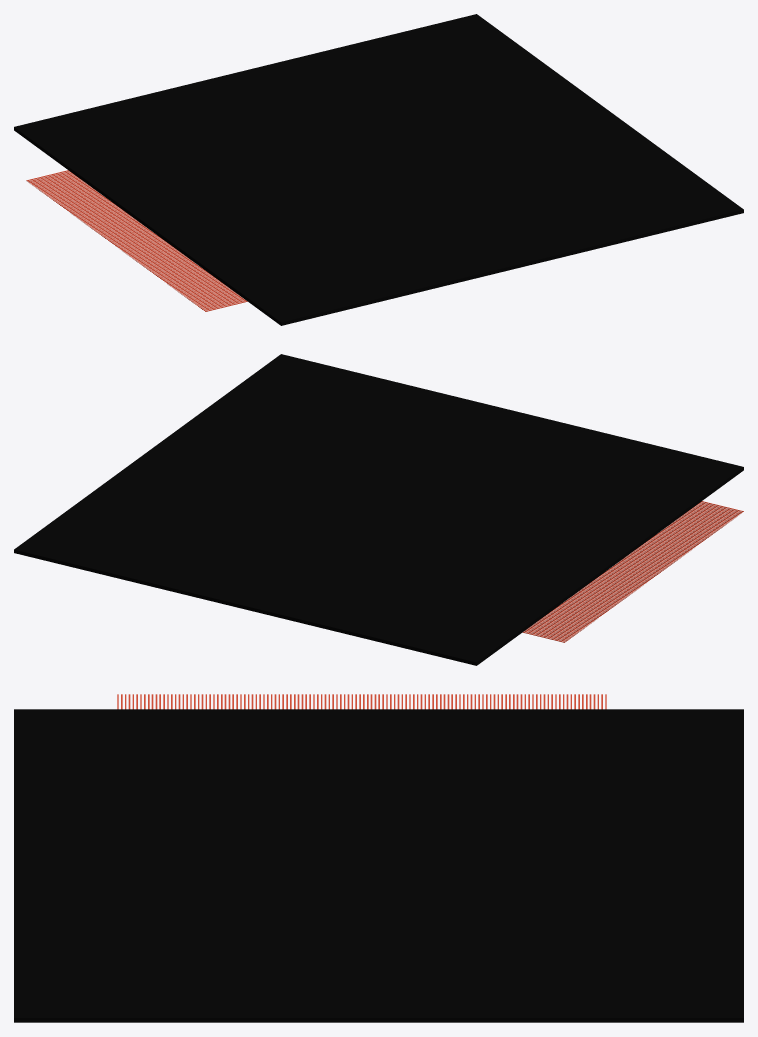
File: AMPHI_roof.fbx
The picture shows the model from 3 angles, top to bottom: view 1: azimuth 30°, elevation 25°; view 2: azimuth 150°, elevation 25°; view 3: azimuth 270°, elevation 25°; orthographic projection. The views are drawn at different scales.
Visible parts, largest first — view 1: Plane.003, Cube.001; view 2: Plane.003, Cube.001; view 3: Plane.003, Cube.001.
Boxes of the visible parts, left/top/right/bottom form: Plane.003: left=14, top=14, right=743, bottom=325; Cube.001: left=26, top=170, right=247, bottom=311; Plane.003: left=14, top=354, right=743, bottom=665; Cube.001: left=522, top=501, right=743, bottom=642; Plane.003: left=14, top=709, right=743, bottom=1022; Cube.001: left=117, top=694, right=606, bottom=709.
Size of the model in its own units: 20.31 by 0.3087 by 18.77.
